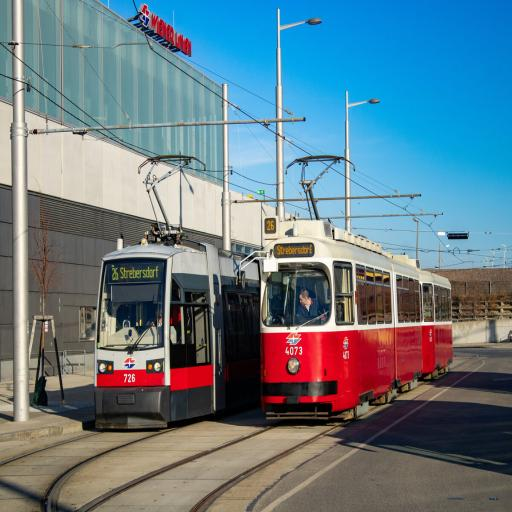E2-Tram: (258, 220, 452, 427)
ULF: (92, 230, 260, 431)
